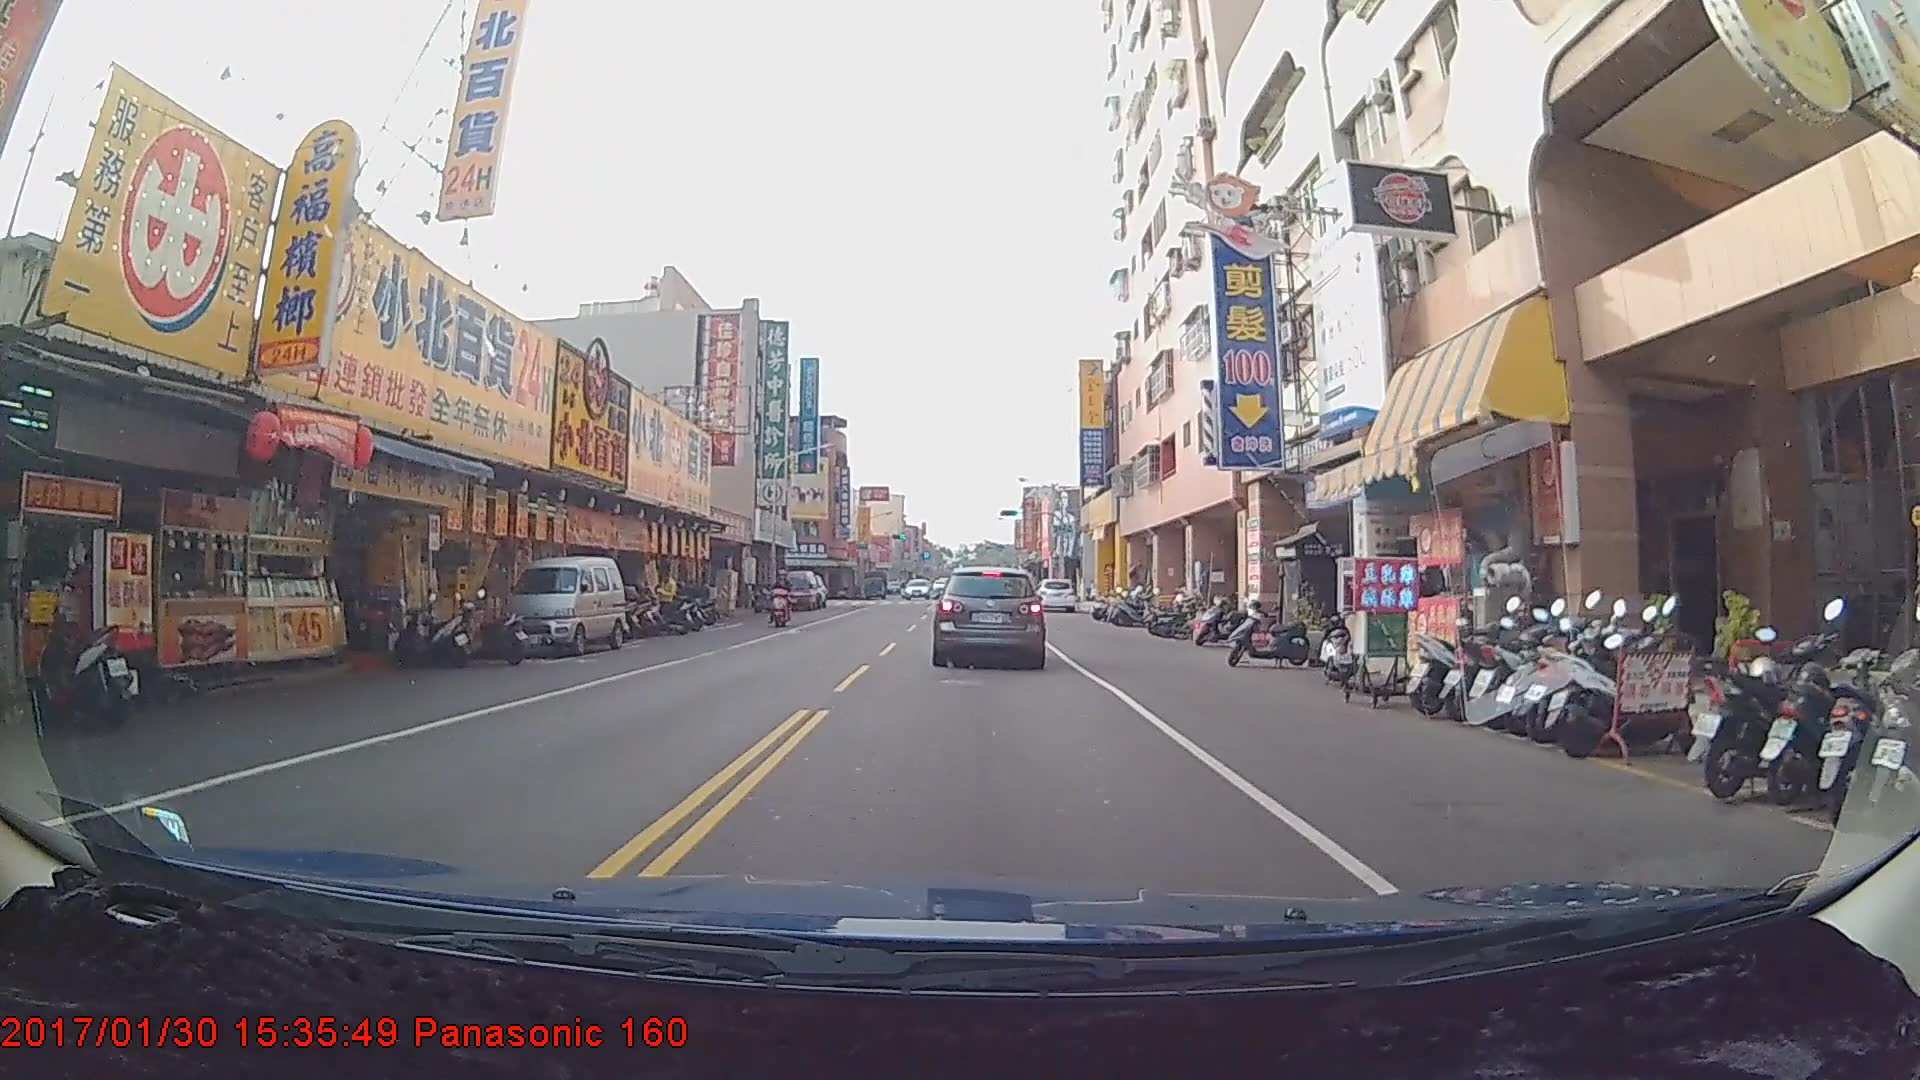pedestrian: (652, 569, 678, 629)
rider: (773, 568, 801, 629)
vehicle: (494, 556, 622, 657), (931, 565, 1045, 667), (778, 567, 818, 609), (1034, 578, 1077, 614), (903, 579, 929, 600)
